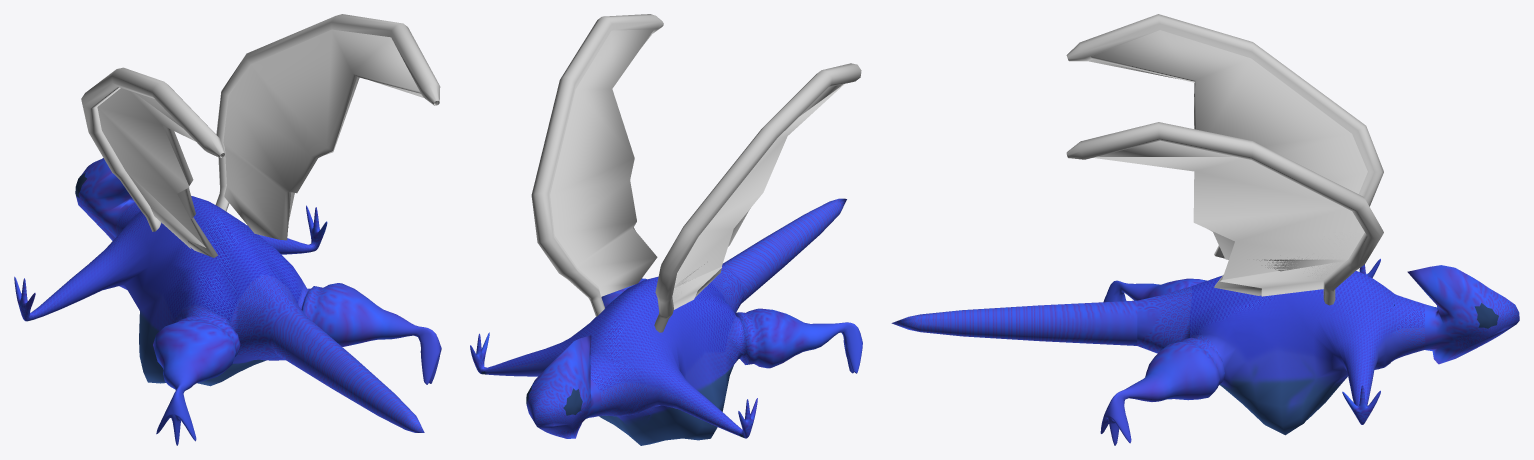
File: ドラゴン.fbx
3 views of the same model, side by side, from view 1: azimuth 30°, elevation 25°; view 2: azimuth 150°, elevation 25°; view 3: azimuth 270°, elevation 25° (orthographic). The views are drawn at different scales.
Visible parts, largest first — view 1: ドラゴン, 羽.001, 羽; view 2: ドラゴン, 羽.001, 羽; view 3: ドラゴン, 羽.001, 羽.
Boxes of the visible parts, box(x1,y1,x2,y2) form: ドラゴン: box(14, 158, 441, 445); 羽.001: box(215, 14, 440, 240); 羽: box(81, 67, 224, 257); ドラゴン: box(470, 198, 862, 445); 羽.001: box(531, 14, 663, 316); 羽: box(654, 63, 861, 332); ドラゴン: box(891, 258, 1519, 445); 羽.001: box(1066, 122, 1383, 305); 羽: box(1066, 14, 1383, 258).
Bounding box in the file's own units: 1869 × 2301 × 3683.
